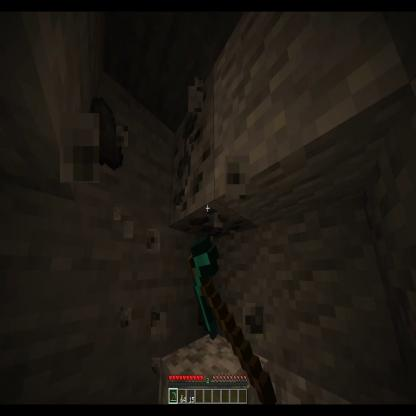coal ore: (168, 75, 258, 243)
